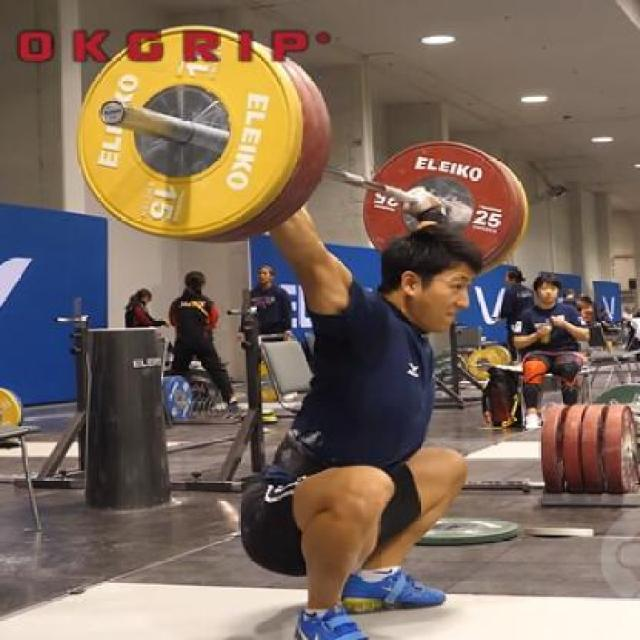barbell: (70, 15, 305, 250)
